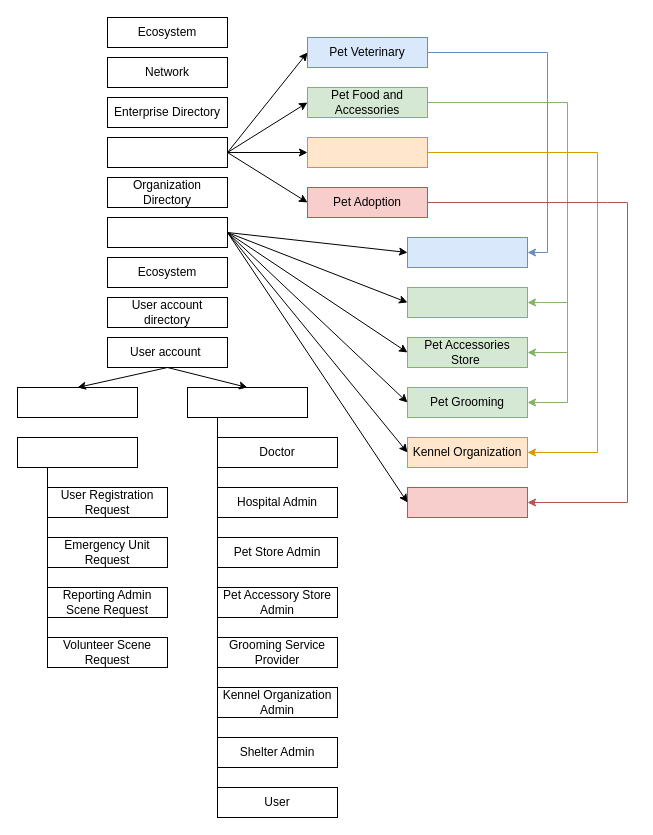
Some shapes in this 653 by 835 pixel diagram are drawn without their labels. Here are the shapes that lost their labels. From the top down, the centre of each, then its label:
point 167,152: Enterprise
point 367,152: Pet Daycare
point 167,232: Organization
point 467,252: Hospital Organization
point 467,302: Pet Food Store
point 77,402: Work Queue
point 247,402: Roles
point 77,452: Work Request
point 467,502: Shelter Organization
